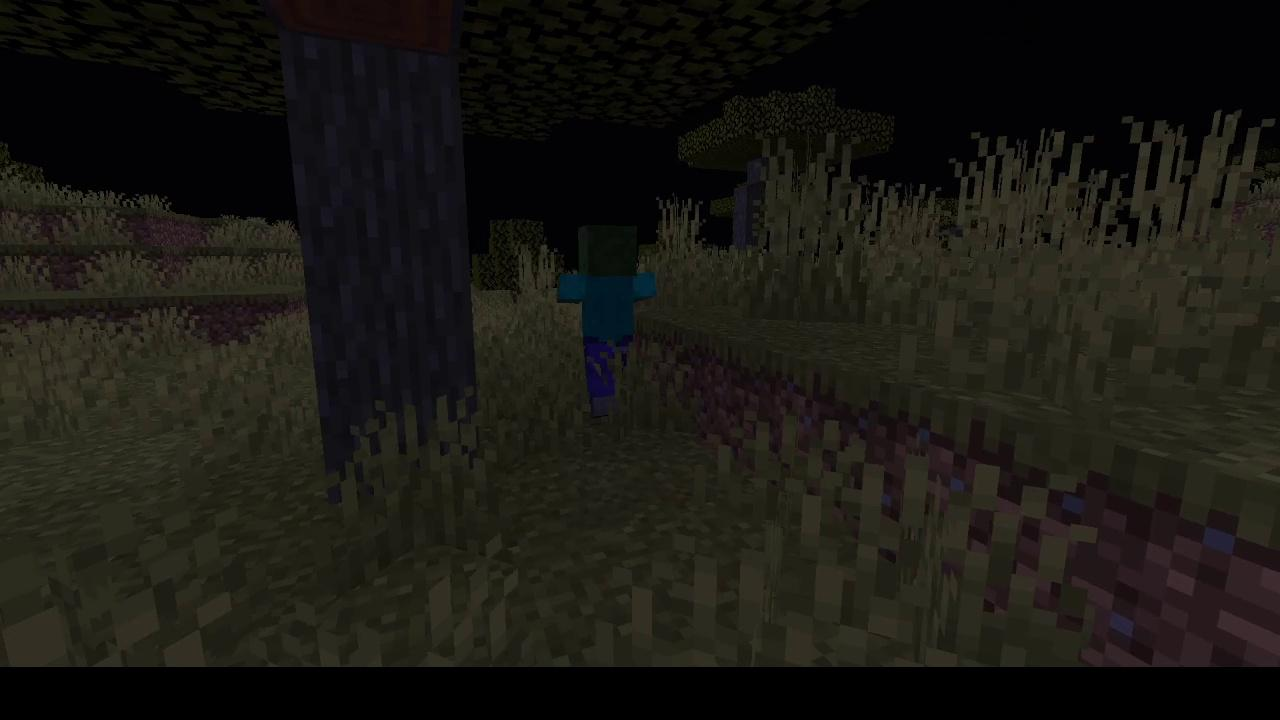zombie: (554, 223, 662, 423)
